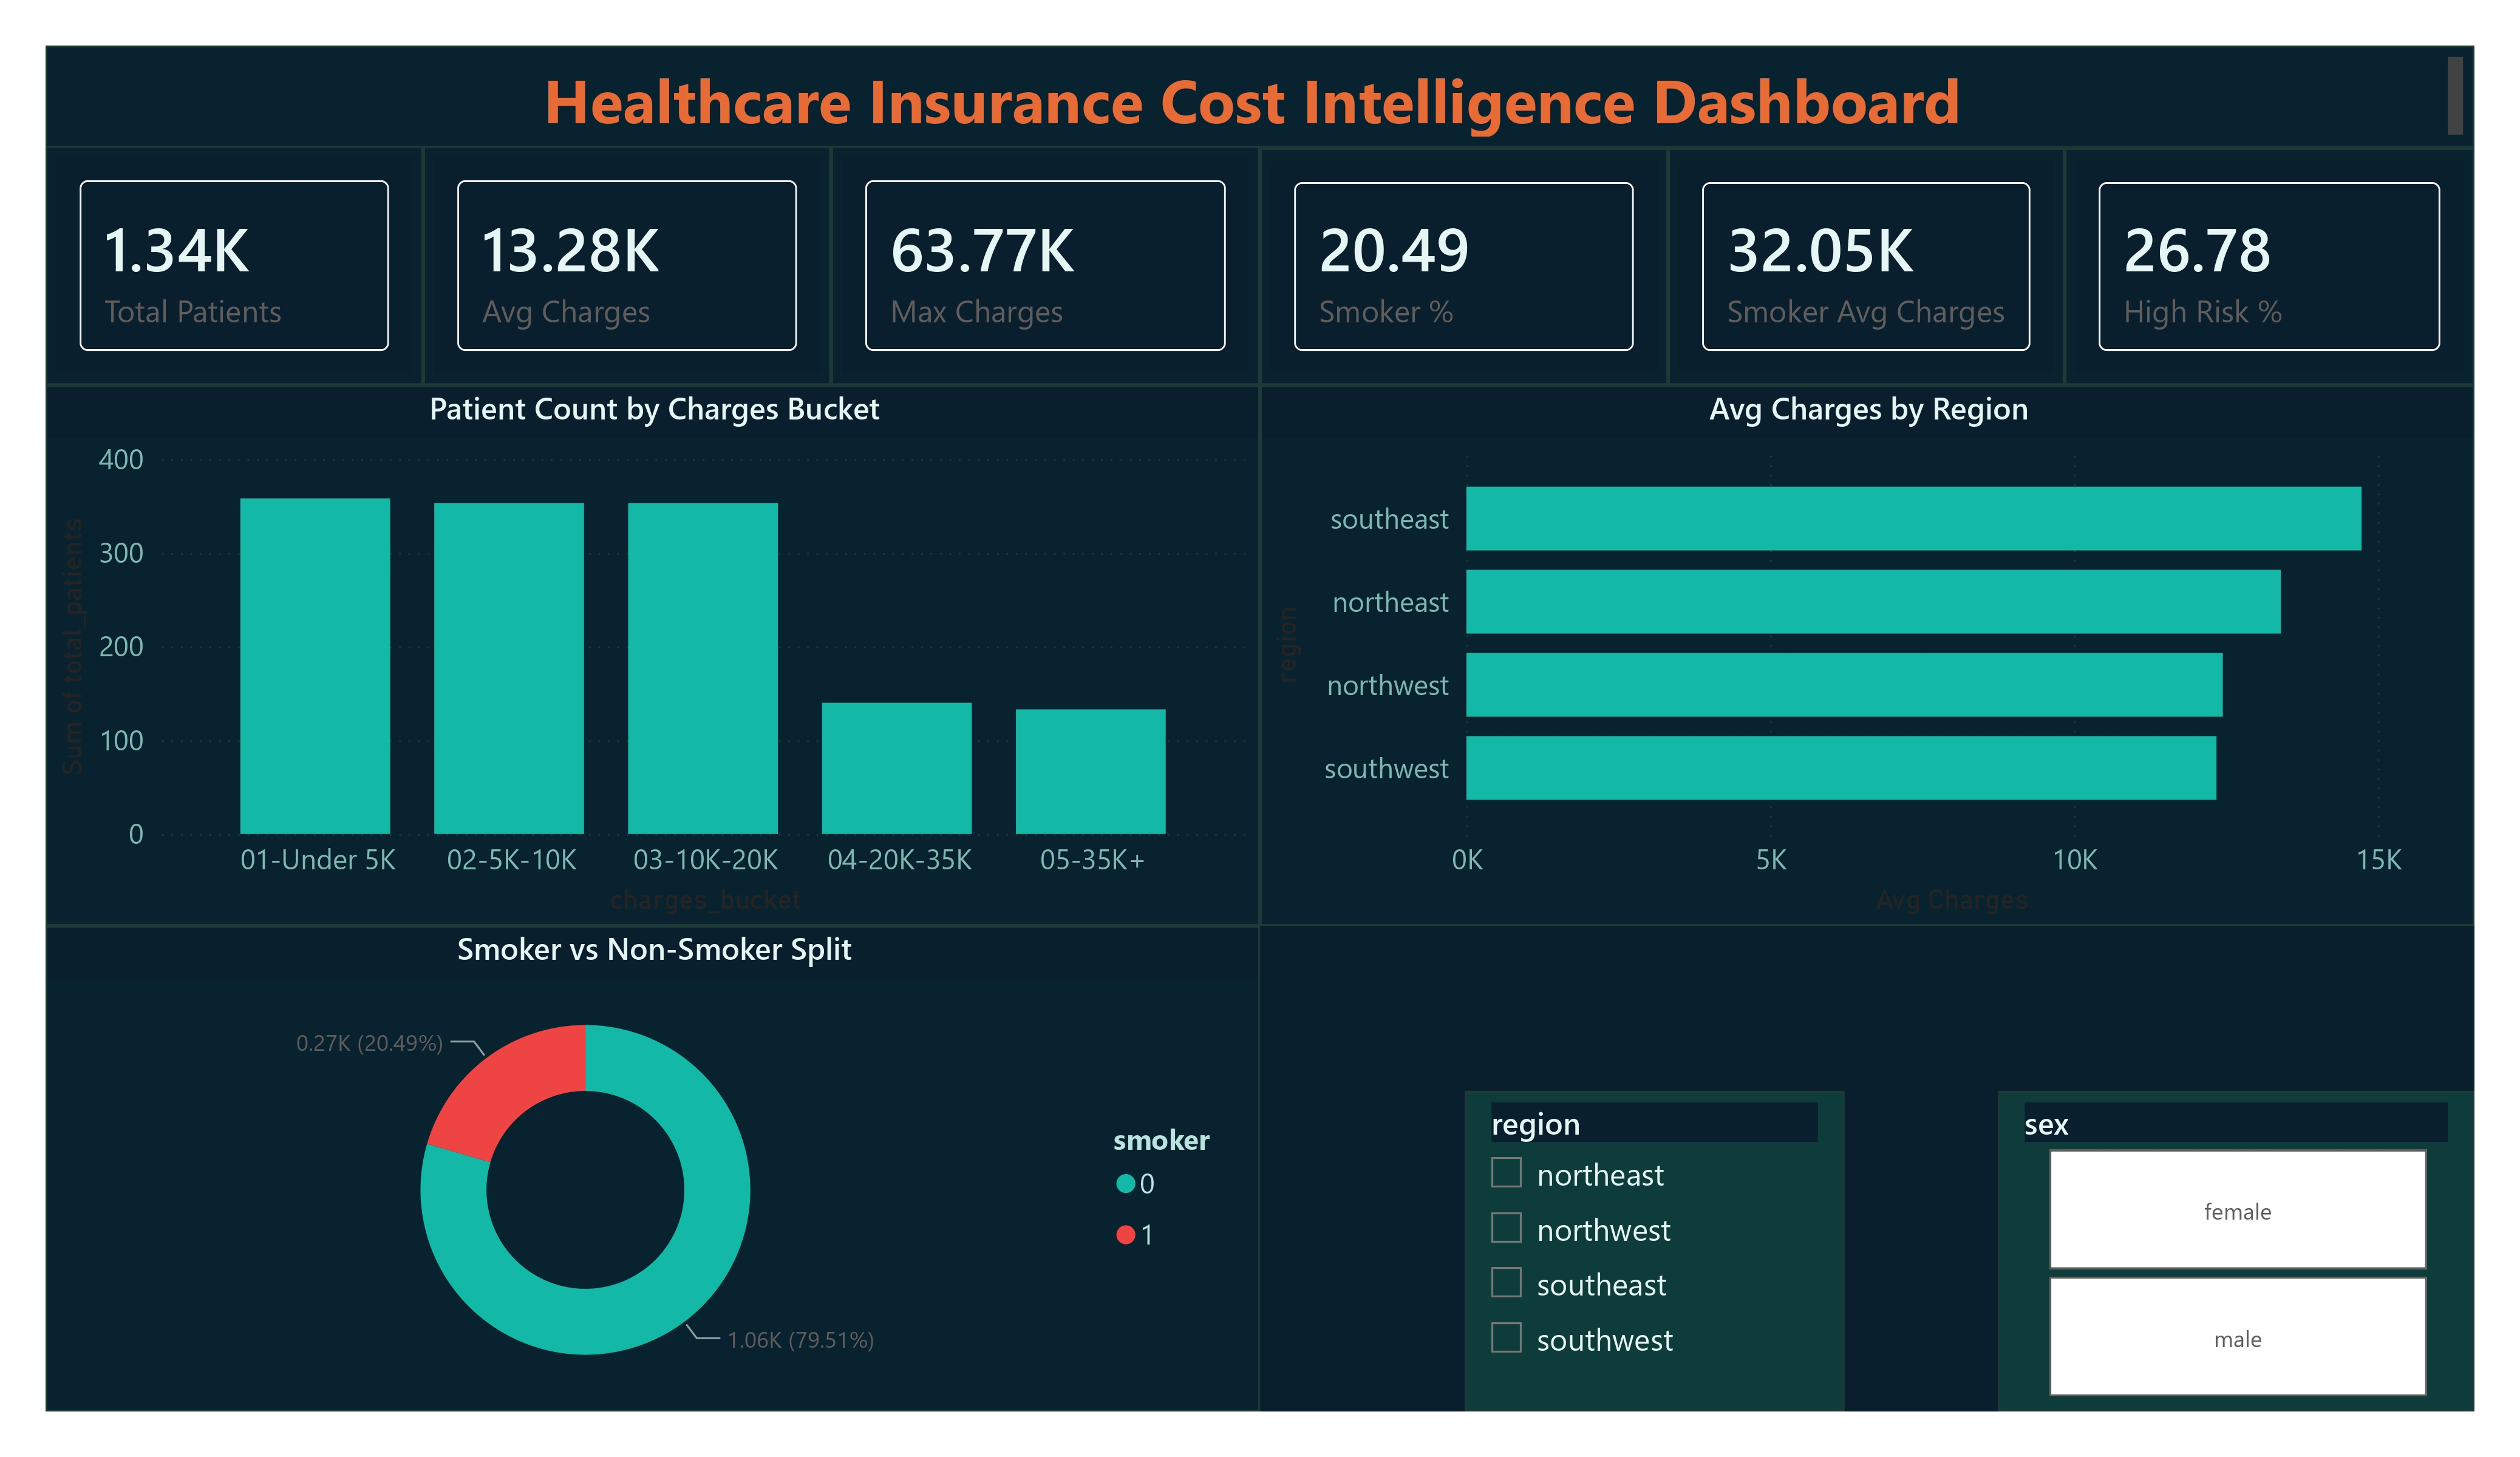

The dashboard page shown, as its layout file describes it:
{"tool":"powerbi","page":{"name":"Claims Overview","canvas":[1280,720],"ordinal":0},"visuals":[{"type":"textbox","box":[0,0,1280.3,54],"z":0},{"type":"cardVisual","fields":{"Data":["insurance_claims.Total Patients"]},"box":[0,53.4,199.3,125.8],"z":1},{"type":"cardVisual","fields":{"Data":["insurance_claims.High Risk %"]},"box":[1064.5,54,215.8,125.4],"z":2},{"type":"cardVisual","fields":{"Data":["insurance_claims.Avg Charges"]},"box":[199.3,53.4,214.8,125.8],"z":3},{"type":"cardVisual","fields":{"Data":["insurance_claims.Max Charges"]},"box":[414.1,53.4,226,125.8],"z":4},{"type":"cardVisual","fields":{"Data":["insurance_claims.Smoker %"]},"box":[640.1,54,214.4,125.4],"z":5},{"type":"cardVisual","fields":{"Data":["insurance_claims.Smoker Avg Charges"]},"box":[854.5,54,210,125.4],"z":6},{"type":"donutChart","title":"Smoker vs Non-Smoker Split","fields":{"Category":["insurance_claims.smoker"],"Y":["insurance_claims.Total Patients"]},"box":[0,463.7,640.1,256.6],"z":7},{"type":"clusteredBarChart","title":"Avg Charges by Region","fields":{"Category":["insurance_claims.region"],"Y":["insurance_claims.Avg Charges"]},"box":[640.1,179.4,640.1,284.3],"z":8},{"type":"clusteredColumnChart","title":"Patient Count by Charges Bucket","fields":{"Category":["vw_insurance_summary.charges_bucket"],"Y":["Sum(vw_insurance_summary.total_patients)"]},"box":[0,179.4,640.1,284.3],"z":9},{"type":"slicer","fields":{"Values":["insurance_claims.region"]},"box":[748.1,551.2,199.8,169.2],"z":10},{"type":"slicer","fields":{"Values":["insurance_claims.sex"]},"box":[1029.5,551.2,250.8,169.2],"z":11}]}

Visuals, with their boxes on the page's 1280x720 design canvas (x1, y1, x2, y2). These are canvas units, not pixel positions in the 2520x1457 screenshot, which may show the page scaled, cropped or inside an application window:
textbox: [0,0,1280,54]
cardVisual - insurance_claims.Total Patients: [0,53,199,179]
cardVisual - insurance_claims.High Risk %: [1064,54,1280,179]
cardVisual - insurance_claims.Avg Charges: [199,53,414,179]
cardVisual - insurance_claims.Max Charges: [414,53,640,179]
cardVisual - insurance_claims.Smoker %: [640,54,854,179]
cardVisual - insurance_claims.Smoker Avg Charges: [854,54,1064,179]
"Smoker vs Non-Smoker Split" donutChart: [0,464,640,720]
"Avg Charges by Region" clusteredBarChart: [640,179,1280,464]
"Patient Count by Charges Bucket" clusteredColumnChart: [0,179,640,464]
slicer - insurance_claims.region: [748,551,948,720]
slicer - insurance_claims.sex: [1030,551,1280,720]
